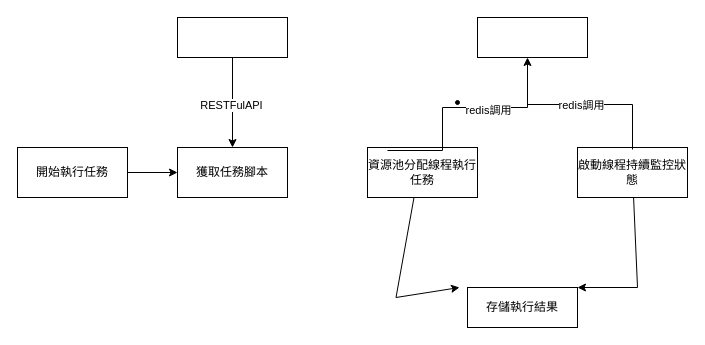
Some shapes in this 705 by 345 pixel diagram are drawn without their labels. The shapes that lost their labels are listed below. From the top down, each one's centre as x and y in pixels, then its label:
At point (232, 37): "任務管理服務".
At point (532, 37): "redis存儲執行中的任務".
